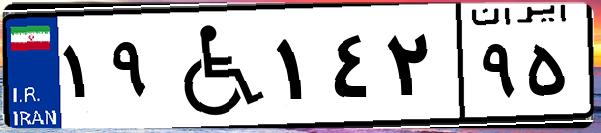1: (270, 28, 330, 110), (57, 26, 110, 100)
2: (385, 28, 445, 110)
4: (330, 28, 385, 110)
5: (525, 38, 570, 115)
9: (475, 38, 525, 113), (110, 28, 158, 98)
ژ (معلولین و جانبازان): (158, 12, 270, 120)
